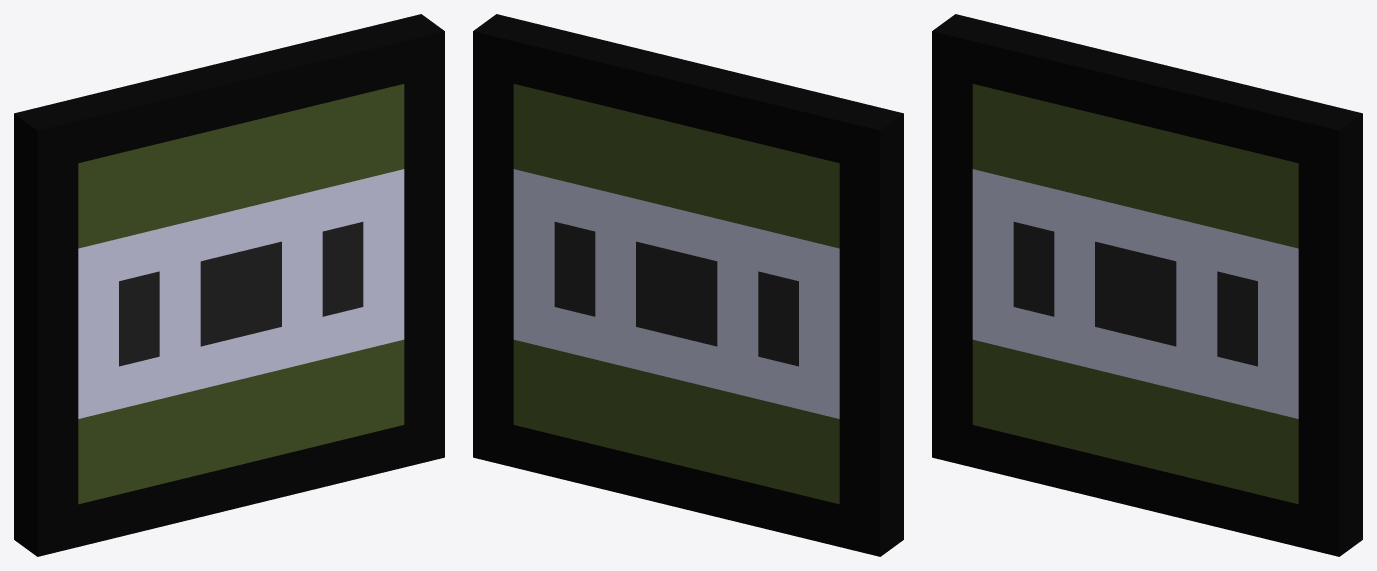
File: Green Paintball Explosive Item.glb
3 views of the same model, side by side, from view 1: azimuth 30°, elevation 25°; view 2: azimuth 150°, elevation 25°; view 3: azimuth 330°, elevation 25° (orthographic).
Parts seen in each view (by area): view 1: generated; view 2: generated; view 3: generated.
Part boxes in pixels (x1,y1,x2,y2): generated: (14, 14, 444, 556); generated: (473, 14, 903, 556); generated: (932, 14, 1362, 556).
Size of the model in its own units: 10 by 10 by 1.
Materials: 1 (1 with a texture image).
